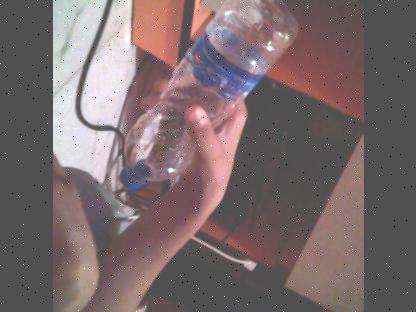Plastic Bottle: (114, 0, 299, 194)
